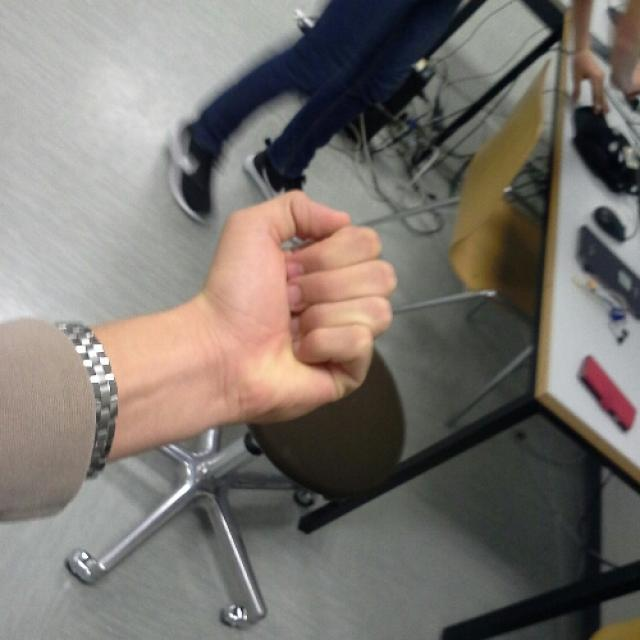rock: (212, 190, 398, 414)
